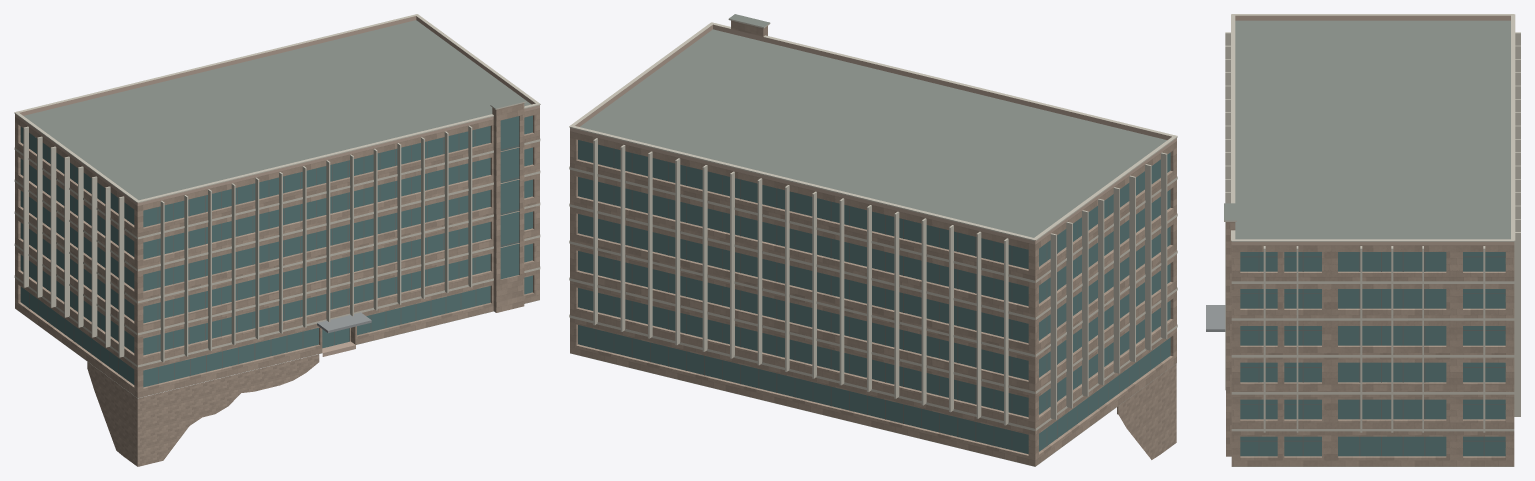
3 views of the same model, side by side, from view 1: azimuth 30°, elevation 25°; view 2: azimuth 150°, elevation 25°; view 3: azimuth 270°, elevation 25° (orthographic). The views are drawn at different scales.
Visible parts, largest first — view 1: international__roof, international__glass, international__wall, international__trim, international__foundationSkirt, international__parapet, international__frame, international__canopy; view 2: international__roof, international__glass, international__wall, international__trim, international__parapet, international__frame, international__foundationSkirt; view 3: international__roof, international__wall, international__glass, international__trim, international__parapet, international__frame, international__canopy.
Boxes of the visible parts, left/top/right/bottom form: international__roof: left=19, top=20, right=539, bottom=398; international__glass: left=20, top=115, right=532, bottom=387; international__wall: left=15, top=103, right=539, bottom=397; international__trim: left=14, top=14, right=540, bottom=367; international__foundationSkirt: left=87, top=354, right=319, bottom=466; international__parapet: left=15, top=16, right=539, bottom=205; international__frame: left=29, top=130, right=519, bottom=383; international__canopy: left=317, top=312, right=371, bottom=333; international__roof: left=570, top=14, right=1176, bottom=466; international__glass: left=578, top=140, right=1170, bottom=454; international__wall: left=570, top=20, right=1176, bottom=466; international__trim: left=569, top=19, right=1177, bottom=430; international__parapet: left=570, top=24, right=1176, bottom=244; international__frame: left=595, top=149, right=1160, bottom=449; international__foundationSkirt: left=1117, top=364, right=1176, bottom=459; international__roof: left=1224, top=20, right=1513, bottom=466; international__wall: left=1226, top=222, right=1514, bottom=466; international__glass: left=1240, top=252, right=1505, bottom=456; international__trim: left=1224, top=14, right=1520, bottom=432; international__parapet: left=1231, top=15, right=1514, bottom=245; international__frame: left=1240, top=252, right=1505, bottom=456; international__canopy: left=1206, top=305, right=1225, bottom=331.
Bounding box in the file's own units: 47.17 × 30 × 27.07.
10 materials, 2 textured.
